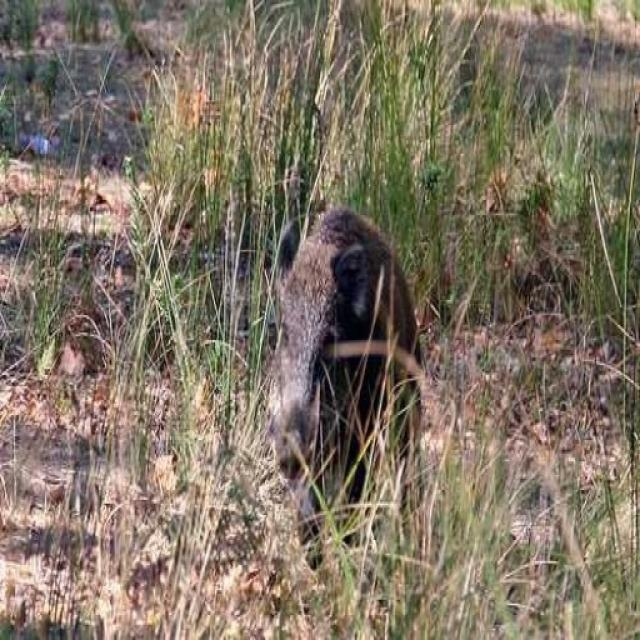pig: (205, 119, 446, 410)
